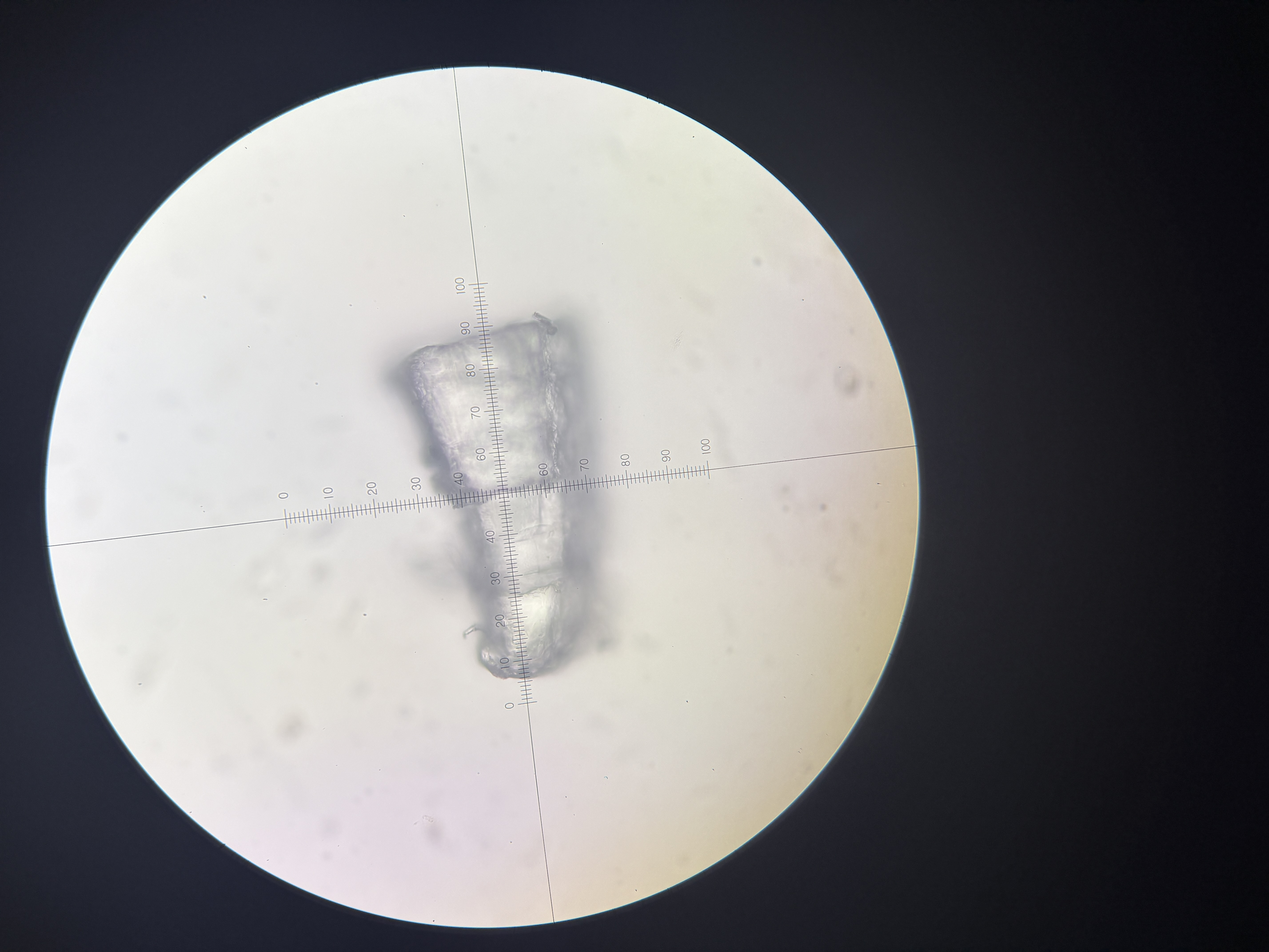microplastic: (391, 311, 588, 684)
